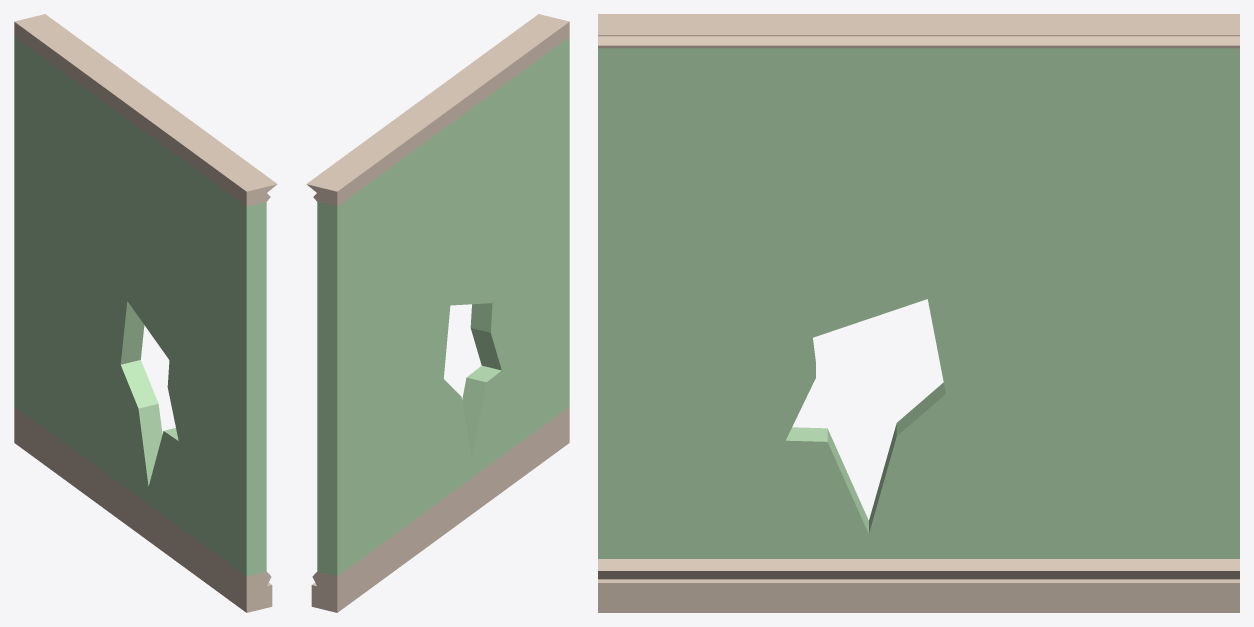
File: Wall_SmallHole8.fbx
The picture shows the model from 3 angles, left to right: view 1: azimuth 30°, elevation 25°; view 2: azimuth 150°, elevation 25°; view 3: azimuth 270°, elevation 25°; orthographic projection. The views are drawn at different scales.
Parts seen in each view (by area): view 1: Cube; view 2: Cube; view 3: Cube.
Part boxes in pixels (x1,y1,x2,y2): Cube: [14, 14, 277, 612]; Cube: [306, 14, 569, 612]; Cube: [598, 14, 1239, 612].
Size of the model in its own units: 61.8 by 800 by 800.
